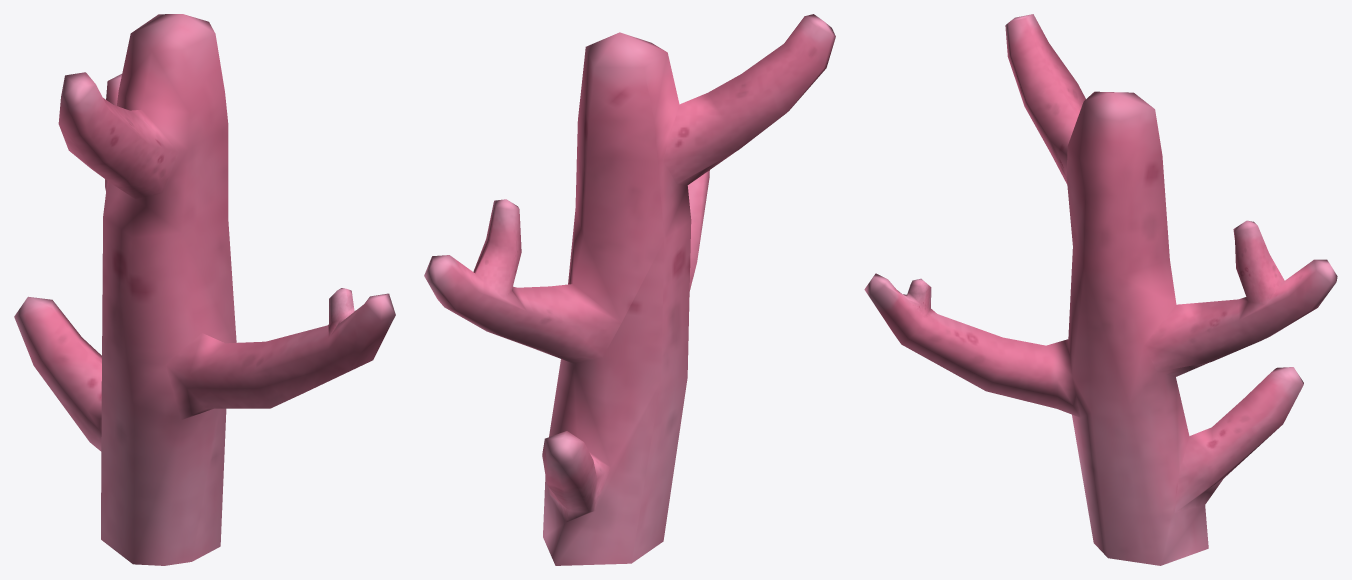
File: PinkCoral.obj
The picture shows the model from 3 angles, left to right: view 1: azimuth 30°, elevation 25°; view 2: azimuth 150°, elevation 25°; view 3: azimuth 270°, elevation 25°; orthographic projection. The views are drawn at different scales.
Parts seen in each view (by area): view 1: pCylinder71; view 2: pCylinder71; view 3: pCylinder71.
Boxes of the visible parts, x1,y1,x2,y2 form: pCylinder71: (14,14,395,565); pCylinder71: (424,14,835,565); pCylinder71: (864,14,1337,565).
Bounding box in the file's own units: 1.74 × 3.58 × 3.3.
